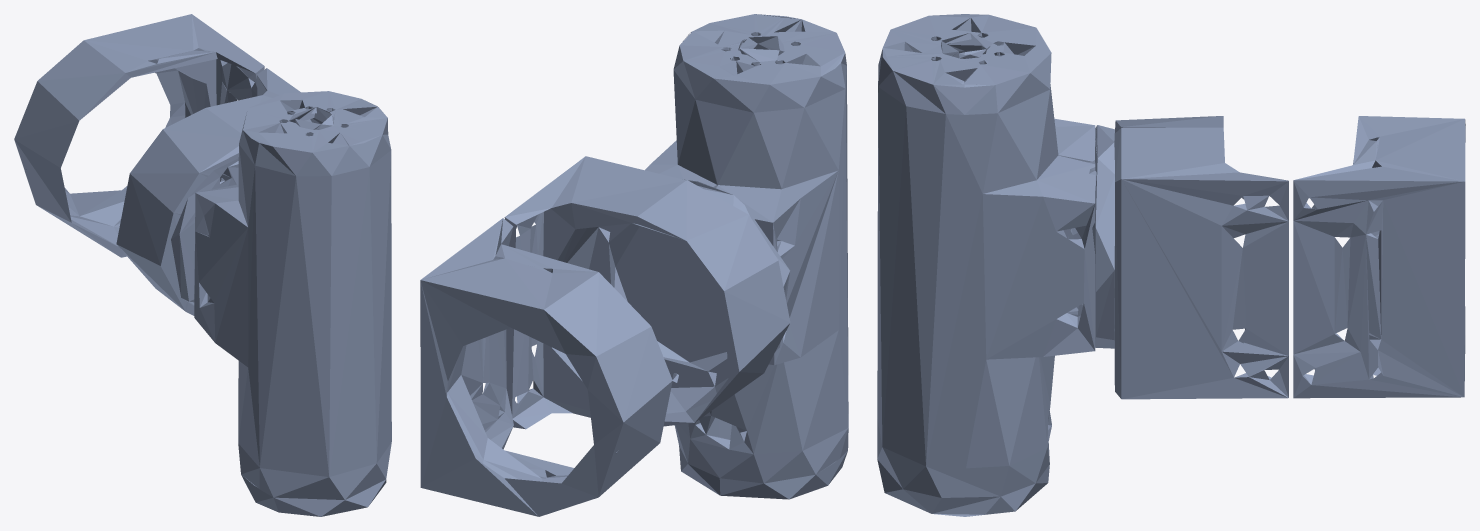
File: l_shoulder_abduction.dae
The picture shows the model from 3 angles, left to right: view 1: azimuth 30°, elevation 25°; view 2: azimuth 150°, elevation 25°; view 3: azimuth 270°, elevation 25°; orthographic projection. The views are drawn at different scales.
Visible parts, largest first — view 1: M2L; view 2: M2L; view 3: M2L.
Part boxes in pixels (<box>): M2L: <box>14,14,391,516</box>; M2L: <box>420,14,848,516</box>; M2L: <box>877,14,1465,516</box>.
Bounding box in the file's own units: 0.0564 × 0.1352 × 0.1118.
